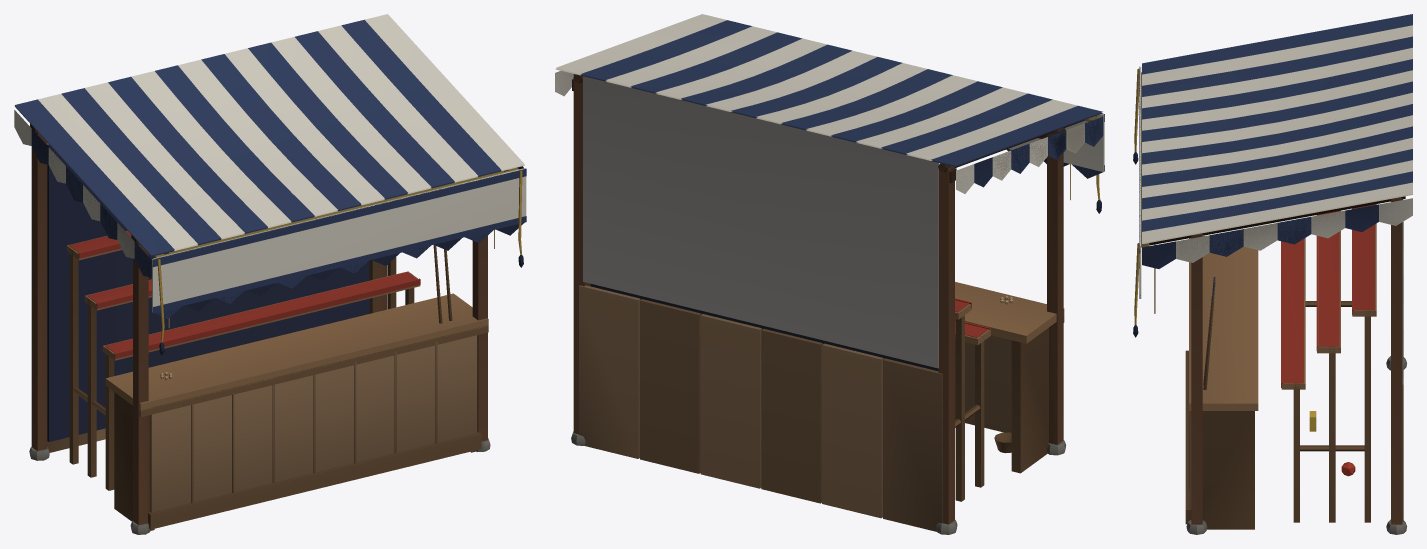
The model's file is yatai_shateki.glb.
3 views of the same model, side by side, from view 1: azimuth 30°, elevation 25°; view 2: azimuth 150°, elevation 25°; view 3: azimuth 270°, elevation 25° (orthographic). The views are drawn at different scales.
Visible parts, largest first — view 1: booth; view 2: booth; view 3: booth.
Boxes of the visible parts, x1,y1,x2,y2 form: booth: (14,14,526,534); booth: (555,14,1104,534); booth: (1133,14,1412,534).
Size of what is drawn, in the model's own units: 2.64 by 2.36 by 1.74.
